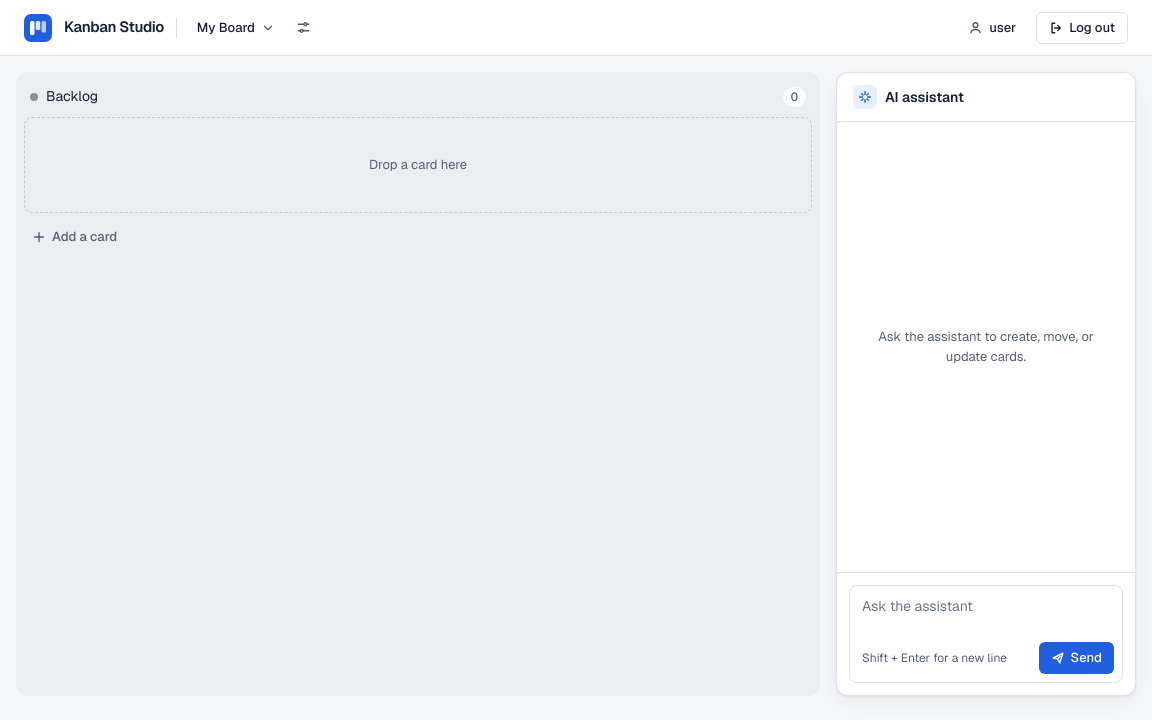
Test: Home page: chat › does not send the failure notice back to the model as history
In the text box named "Chat message": (986, 612) [850,586,1122,638], type "first"
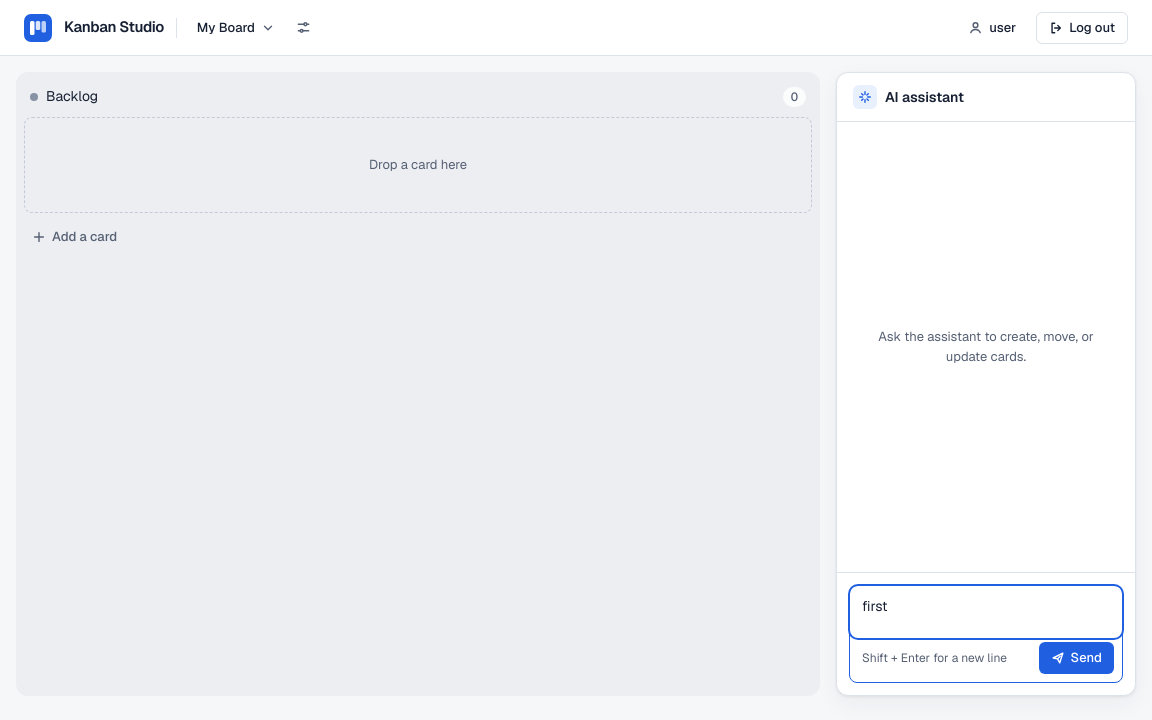
Click the button "Send": (1076, 658) [1039,642,1114,674]
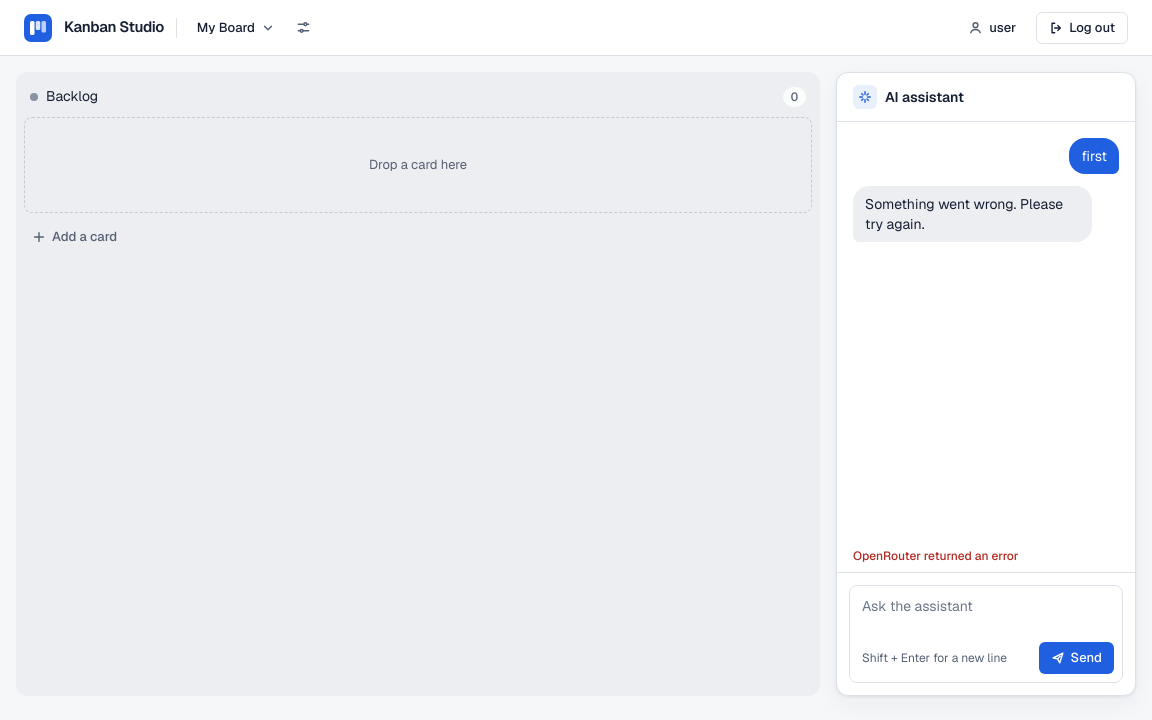
Now the text "Something went wrong. Please try again." is shown, box [853,186,1092,242]
In the text box named "Chat message": (986, 612) [850,586,1122,638], type "second"
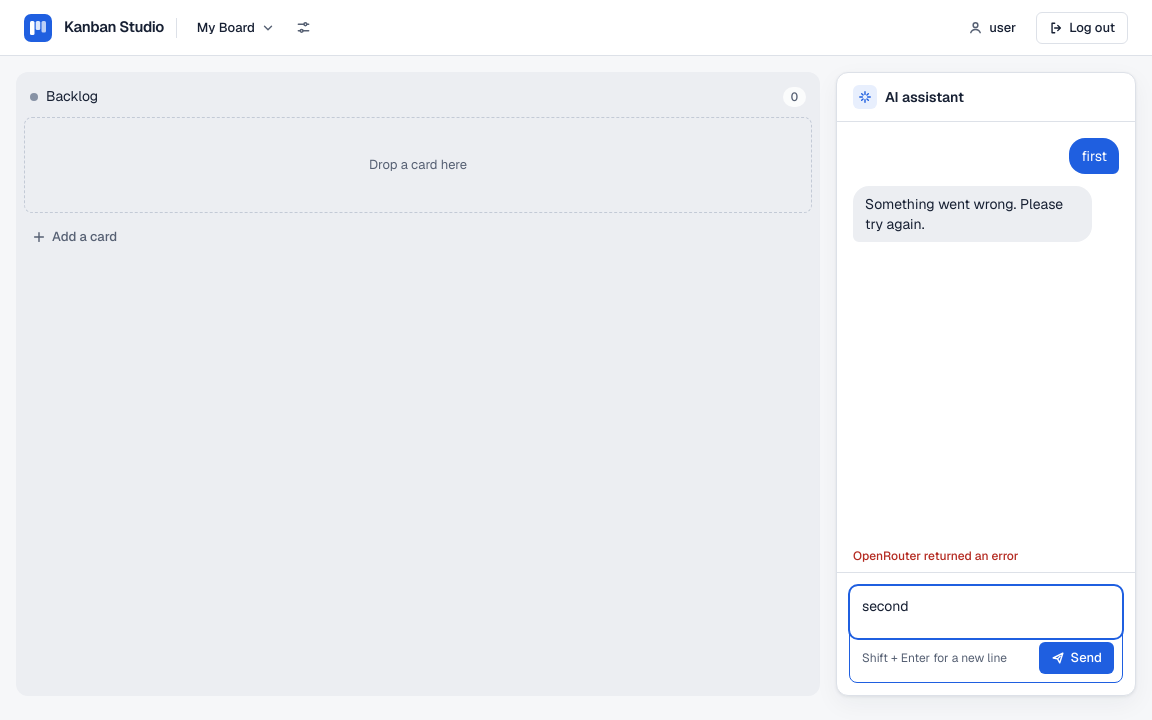
Click the button "Send": (1076, 658) [1039,642,1114,674]
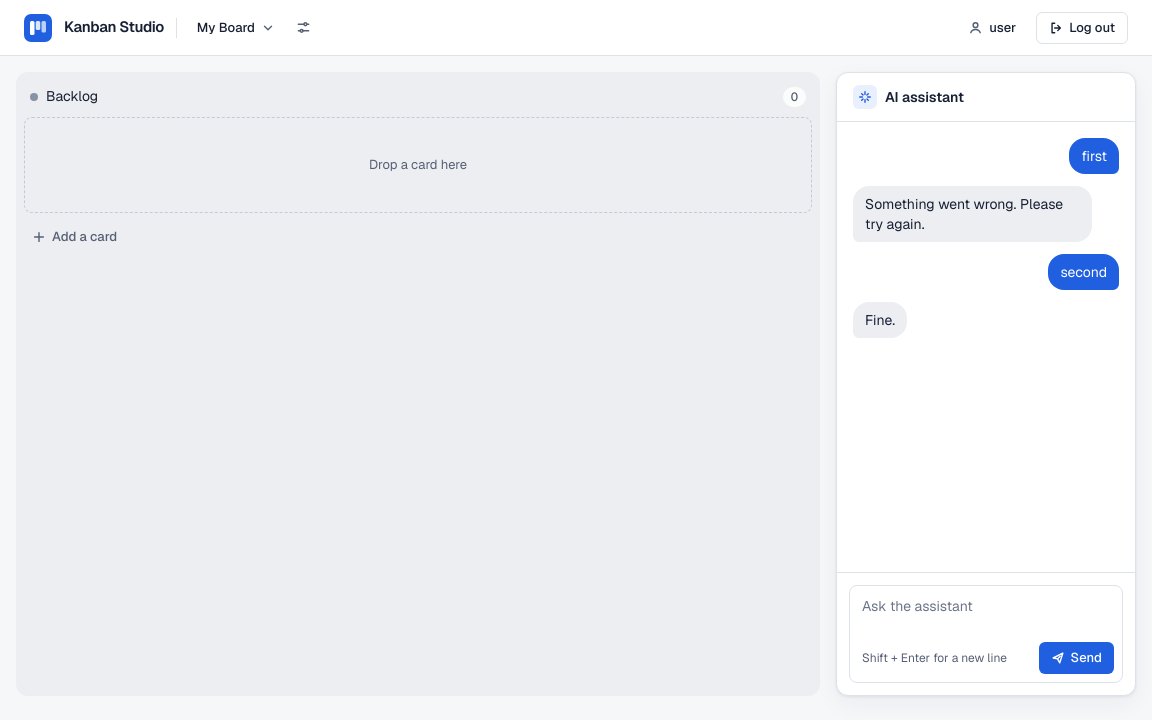
Now the text "Fine." is shown, box [853,302,907,338]
